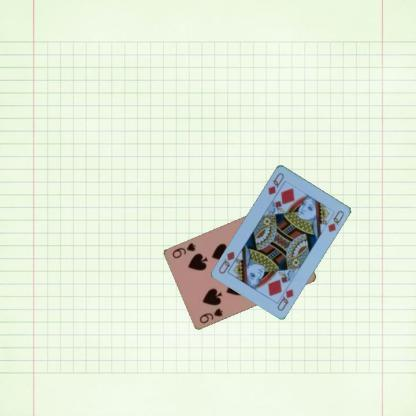9s: (197, 305, 224, 325)
Qd: (274, 282, 295, 312), (266, 170, 286, 196)
